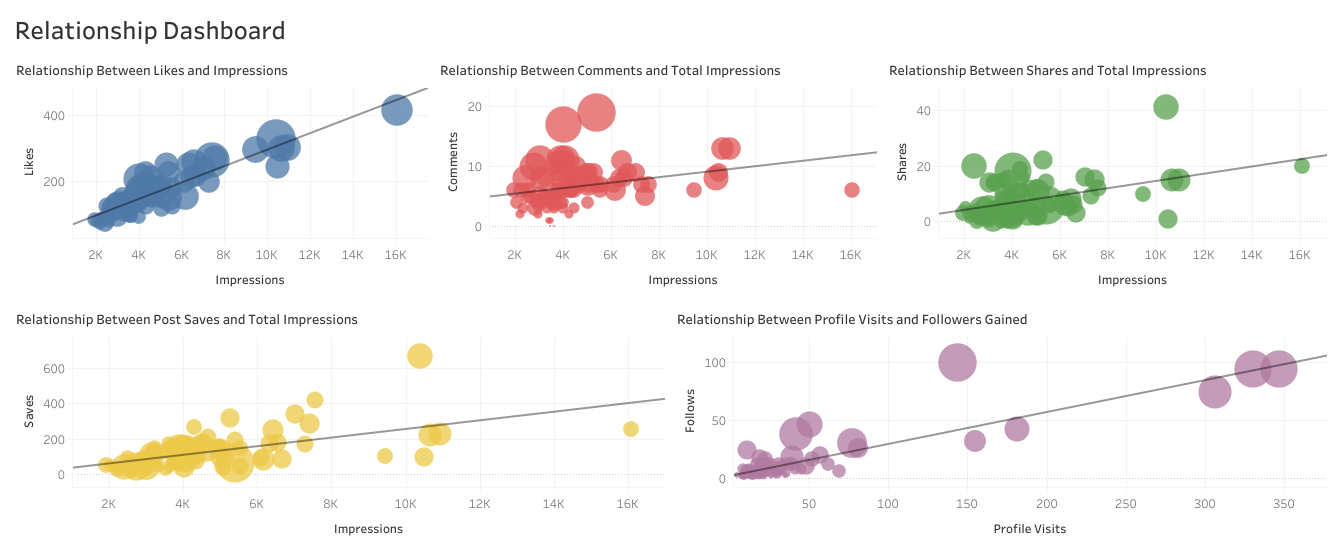

Layout of this report page (visuals, bound fields, positions):
{"tool":"tableau","page":{"name":"Relationship Dashboard","canvas":[1000,1000],"units":"permille","ordinal":1},"visuals":[{"type":"worksheet","title":"Relationship Between Likes and Impressions","mark":"Automatic","rows":["Likes"],"cols":["Impressions"],"box":[6.9,12.7,316,487.3]},{"type":"worksheet","title":"Relationship Between Comments and Total Impressions","mark":"Automatic","rows":["Comments"],"cols":["Impressions"],"box":[322.9,12.7,335.1,487.3]},{"type":"worksheet","title":"Relationship Between Shares and Total Impressions","mark":"Automatic","rows":["Shares"],"cols":["Impressions"],"box":[658,12.7,335.1,487.3]},{"type":"worksheet","title":"Relationship Between Post Saves and Total Impressions","mark":"Automatic","rows":["Saves"],"cols":["Impressions"],"box":[6.9,500,493.1,487.3]},{"type":"worksheet","title":"Relationship Between Profile Visits and Followers Gained","mark":"Automatic","rows":["Follows"],"cols":["Profile Visits"],"box":[500,500,493.1,487.3]}]}

Visuals, with their boxes on the dashboard's canvas, which has no fixed pixel size, in thousandths of its width and height (x1, y1, x2, y2). These are canvas units, not pixel positions in the 1338x555 screenshot, which may show the page scaled, cropped or inside an application window:
"Relationship Between Likes and Impressions" worksheet: box(7, 13, 323, 500)
"Relationship Between Comments and Total Impressions" worksheet: box(323, 13, 658, 500)
"Relationship Between Shares and Total Impressions" worksheet: box(658, 13, 993, 500)
"Relationship Between Post Saves and Total Impressions" worksheet: box(7, 500, 500, 987)
"Relationship Between Profile Visits and Followers Gained" worksheet: box(500, 500, 993, 987)
